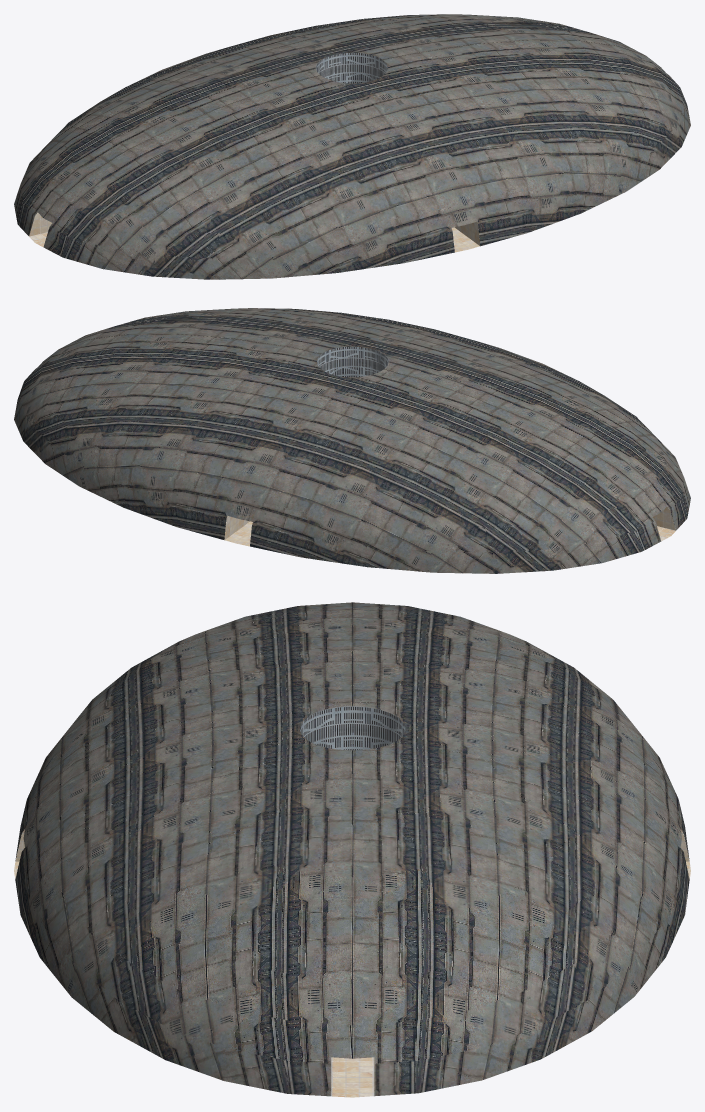
Rendered from home_type2.FBX.
The picture shows the model from 3 angles, top to bottom: view 1: azimuth 30°, elevation 25°; view 2: azimuth 150°, elevation 25°; view 3: azimuth 270°, elevation 25°; orthographic projection. The views are drawn at different scales.
Visible parts, largest first — view 1: Sphere006, Cylinder011, Box018, Box019; view 2: Sphere006, Cylinder011, Box021, Box019; view 3: Sphere006, Cylinder011, Box020.
Part boxes in pixels (box(x1,y1,x2,y2)): Sphere006: box(14, 14, 690, 279); Cylinder011: box(315, 52, 387, 83); Box018: box(451, 222, 480, 252); Box019: box(29, 212, 52, 247); Sphere006: box(14, 308, 690, 573); Cylinder011: box(317, 346, 389, 377); Box021: box(224, 516, 252, 546); Box019: box(652, 506, 675, 541); Sphere006: box(15, 602, 689, 1096); Cylinder011: box(299, 705, 405, 750); Box020: box(331, 1057, 374, 1097).
Bounding box in the file's own units: 1180 × 175 × 745.
4 materials, 3 textured.
